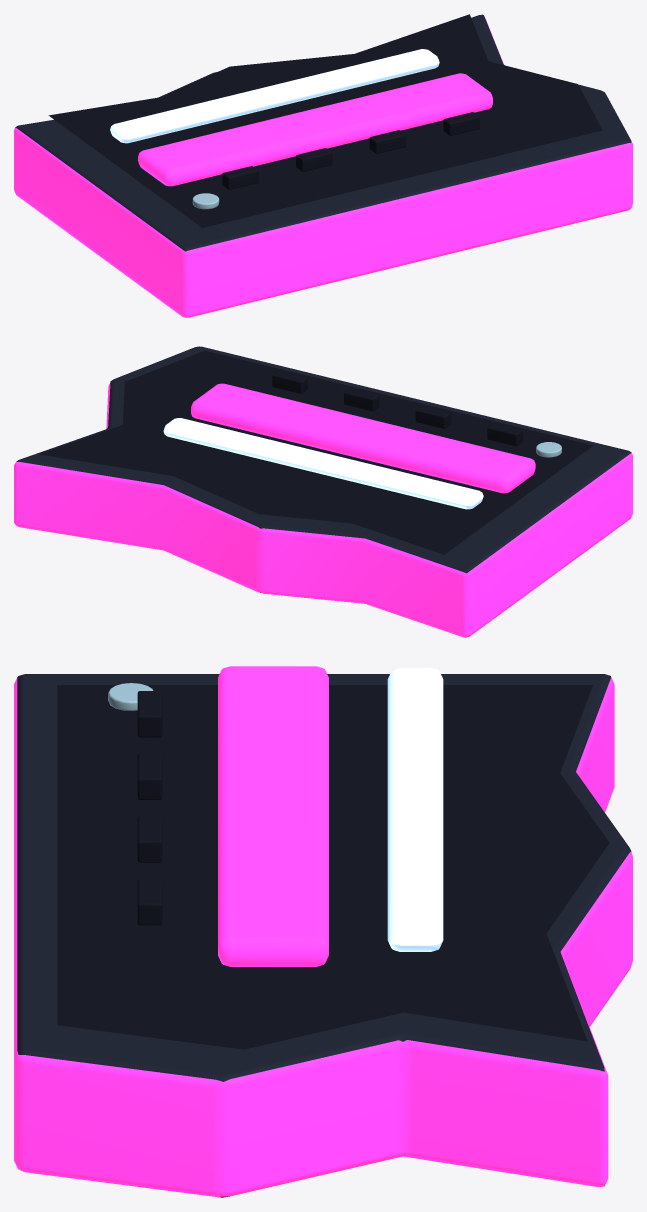
The model's file is tape_piece_3.glb.
The picture shows the model from 3 angles, top to bottom: view 1: azimuth 30°, elevation 25°; view 2: azimuth 150°, elevation 25°; view 3: azimuth 270°, elevation 25°; orthographic projection. The views are drawn at different scales.
Visible parts, largest first — view 1: 03_Pink_LowerLeft | broken shell, 03_Pink_LowerLeft | inset face, Lower cassette grip, Readable dark label stripe, Magnetic window slat 2, Magnetic window slat 0, Magnetic window slat 3, Magnetic window slat 1; view 2: 03_Pink_LowerLeft | broken shell, 03_Pink_LowerLeft | inset face, Lower cassette grip, Readable dark label stripe, Magnetic window slat 1, Magnetic window slat 0, Magnetic window slat 2, Magnetic window slat 3; view 3: 03_Pink_LowerLeft | inset face, 03_Pink_LowerLeft | broken shell, Lower cassette grip, Readable dark label stripe, Magnetic window slat 2, Magnetic window slat 0, Magnetic window slat 1, Magnetic window slat 3, Corner screw.002.
Boxes of the visible parts, left/top/right/bottom form: 03_Pink_LowerLeft | broken shell: left=14, top=14, right=632, bottom=317; 03_Pink_LowerLeft | inset face: left=48, top=14, right=602, bottom=227; Lower cassette grip: left=138, top=73, right=492, bottom=186; Readable dark label stripe: left=110, top=49, right=439, bottom=143; Magnetic window slat 2: left=369, top=130, right=406, bottom=153; Magnetic window slat 0: left=222, top=166, right=258, bottom=189; Magnetic window slat 3: left=443, top=112, right=479, bottom=135; Magnetic window slat 1: left=296, top=148, right=332, bottom=171; 03_Pink_LowerLeft | broken shell: left=14, top=346, right=632, bottom=637; 03_Pink_LowerLeft | inset face: left=39, top=350, right=593, bottom=554; Lower cassette grip: left=191, top=383, right=535, bottom=493; Readable dark label stripe: left=163, top=418, right=483, bottom=509; Magnetic window slat 1: left=415, top=405, right=451, bottom=428; Magnetic window slat 0: left=487, top=423, right=522, bottom=446; Magnetic window slat 2: left=344, top=388, right=379, bottom=411; Magnetic window slat 3: left=272, top=370, right=307, bottom=393; 03_Pink_LowerLeft | inset face: left=57, top=685, right=609, bottom=1049; 03_Pink_LowerLeft | broken shell: left=14, top=674, right=632, bottom=1197; Lower cassette grip: left=218, top=666, right=328, bottom=966; Readable dark label stripe: left=387, top=667, right=443, bottom=951; Magnetic window slat 2: left=137, top=816, right=162, bottom=862; Magnetic window slat 0: left=137, top=691, right=162, bottom=737; Magnetic window slat 1: left=137, top=753, right=162, bottom=799; Magnetic window slat 3: left=137, top=879, right=162, bottom=925; Corner screw.002: left=108, top=683, right=153, bottom=710.
Size of the model in its own units: 1.57 by 0.305 by 1.
